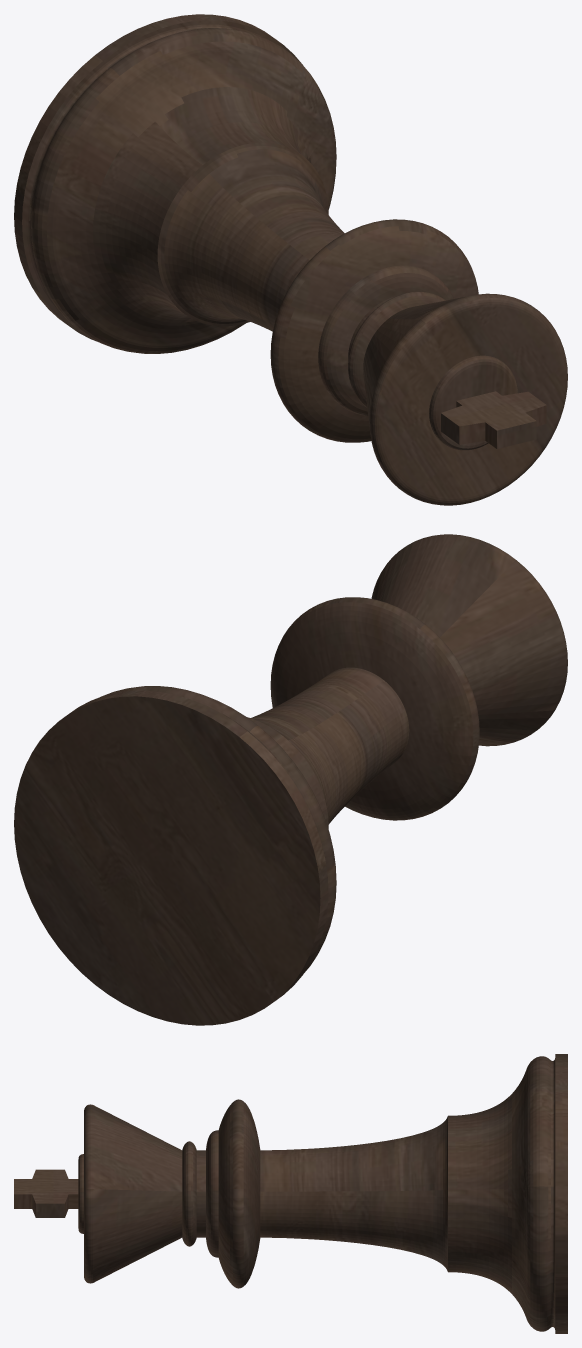
File: king.obj
The picture shows the model from 3 angles, top to bottom: view 1: azimuth 30°, elevation 25°; view 2: azimuth 150°, elevation 25°; view 3: azimuth 270°, elevation 25°; orthographic projection. The views are drawn at different scales.
Visible parts, largest first — view 1: king; view 2: king; view 3: king.
Boxes of the visible parts, x1,y1,x2,y2 form: king: (14, 14, 567, 505); king: (14, 534, 567, 1025); king: (14, 1054, 567, 1333).
Size of the model in its own units: 32.16 by 32.16 by 63.58.
